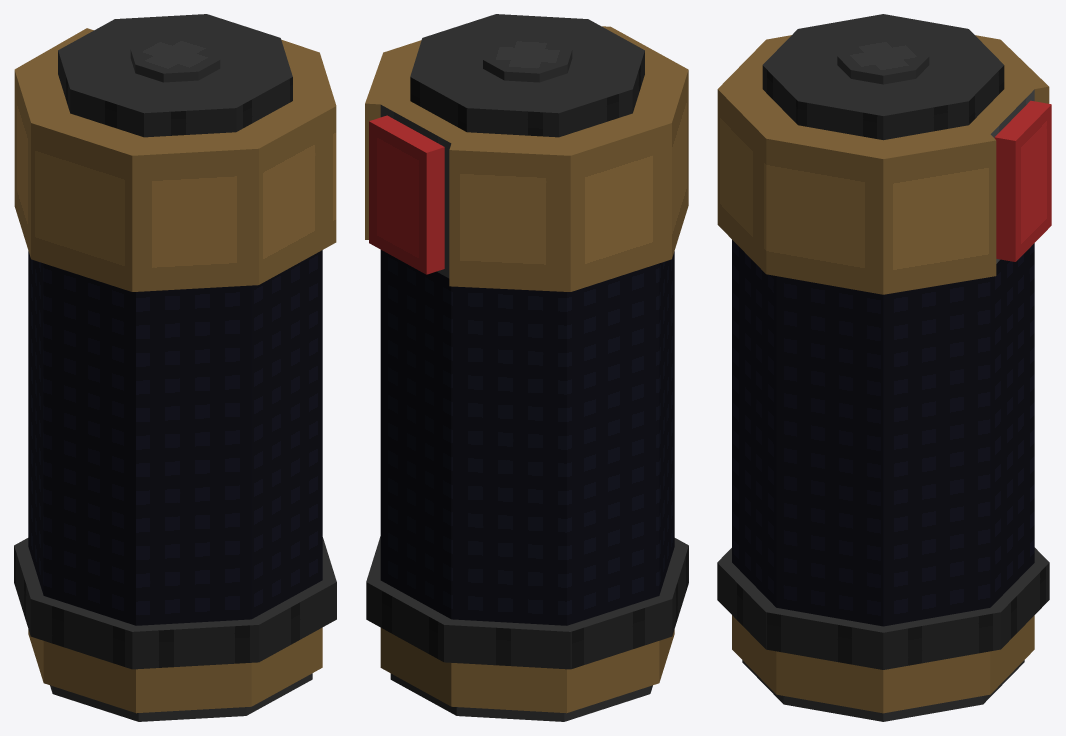
Rendered from switchnade.fbx.
The picture shows the model from 3 angles, left to right: view 1: azimuth 30°, elevation 25°; view 2: azimuth 150°, elevation 25°; view 3: azimuth 270°, elevation 25°; orthographic projection.
Visible parts, largest first — view 1: pCylinder6; view 2: pCylinder6; view 3: pCylinder6.
Part boxes in pixels (x1=…): pCylinder6: x1=14, y1=14, x2=336, y2=721; pCylinder6: x1=365, y1=14, x2=688, y2=721; pCylinder6: x1=717, y1=14, x2=1051, y2=721.
Bounding box in the file's own units: 9.94 × 20 × 10.
